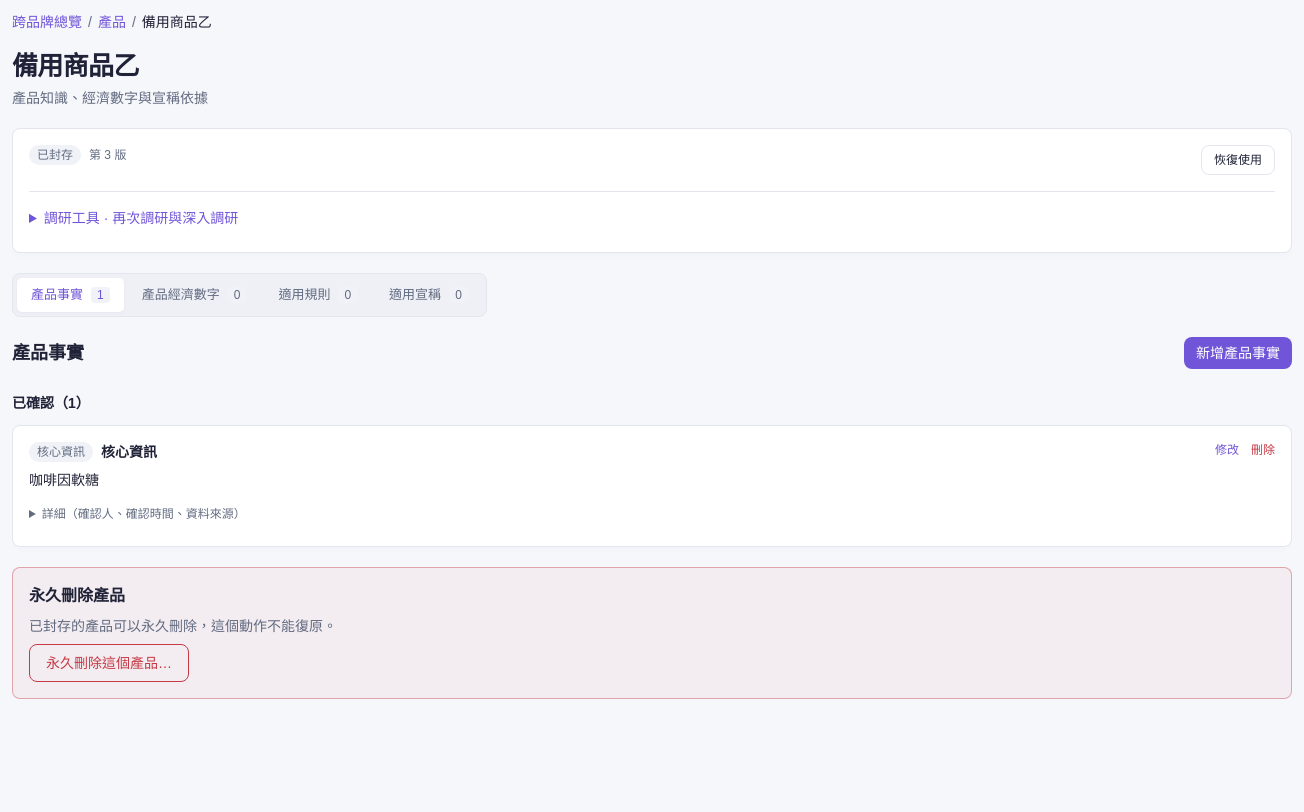
ProductDetailPage 封存 (F47-I05, drill-10 V9) › 恢復使用 asks nothing and shows a refusal next to the button
What coordinates should you click on to do the following:
click the button "恢復使用"
I would click on:
 (1238, 160)
Its box is [1201,145,1275,175].
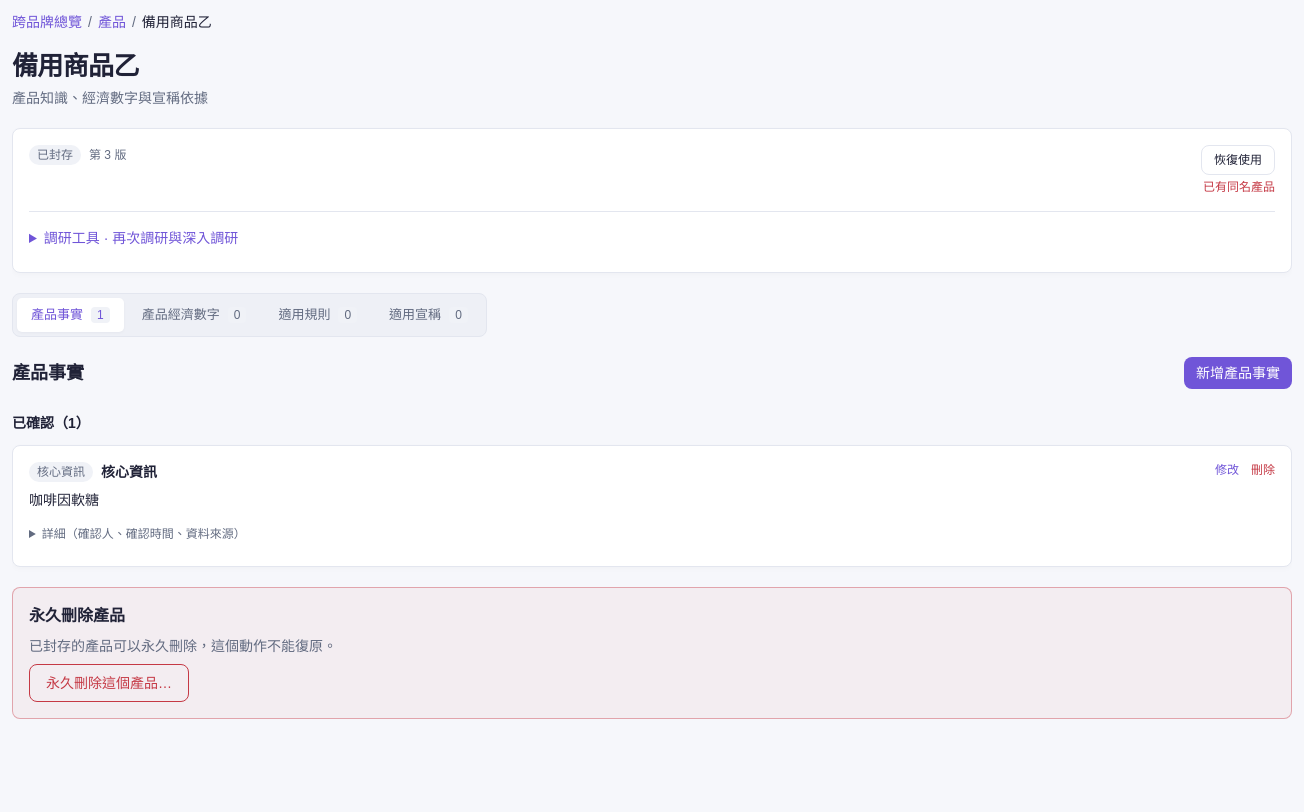
Result: the message reads "已有同名產品" at [1203,180,1275,194]
